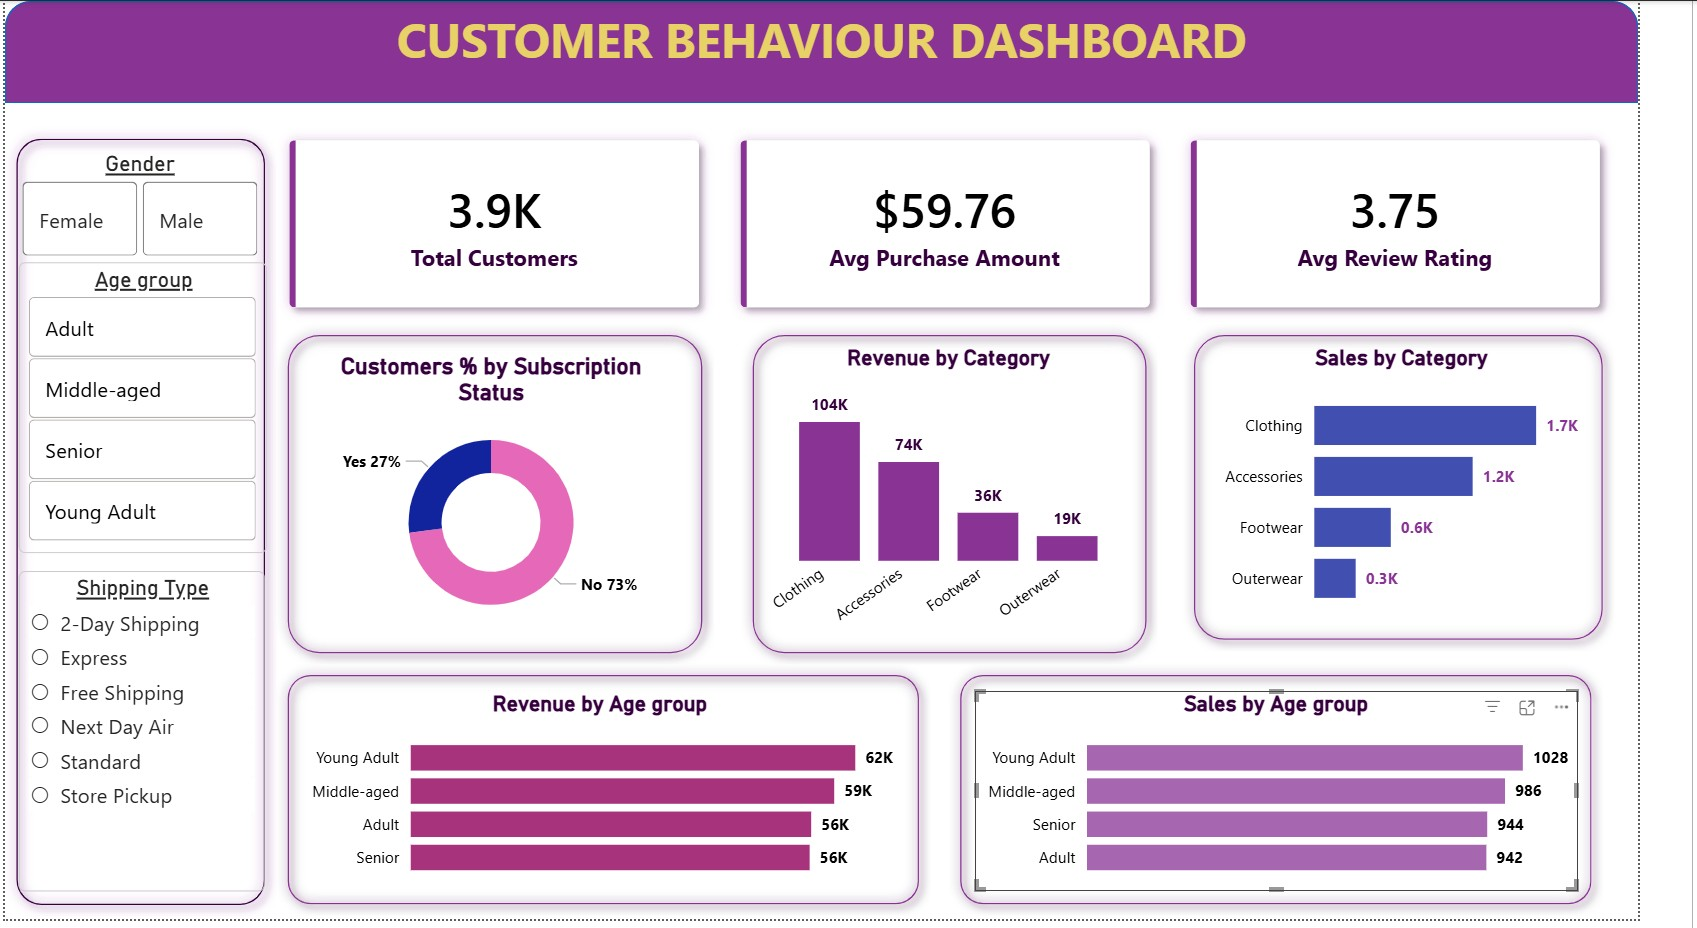

What the dashboard file says about the page in this screenshot:
{"tool":"powerbi","page":{"name":"Customer Behaviour Analysis","canvas":[1280,720],"ordinal":0},"visuals":[{"type":"cardVisual","fields":{"Data":["customer.total_customers","customer.avg_purchase_amount","customer.avg_review_rating"]},"box":[194.2,80.2,1086,189.5],"z":0},{"type":"shape","box":[0,0,1280.2,80.2],"z":1000},{"type":"textbox","box":[0,0,1280.2,80.2],"z":2000},{"type":"shape","box":[212.8,252.3,343,267.4],"z":3000},{"type":"donutChart","title":"Customers % by Subscription Status","fields":{"Category":["customer.subscription_status"],"Y":["customer.total_customers"]},"box":[244.2,275.6,274.4,225.6],"z":4000},{"type":"shape","box":[576.7,252.3,326.7,267.4],"z":5000},{"type":"shape","box":[923.3,252.3,338.4,257],"z":6000},{"type":"clusteredColumnChart","title":"Revenue by Category","fields":{"Category":["customer.category"],"Y":["Sum(customer.purchase_amount)"]},"box":[590.7,269.8,297.7,239.5],"z":7000},{"type":"clusteredBarChart","title":"Sales by Category","fields":{"Y":["CountNonNull(customer.customer_id)"],"Category":["customer.category"]},"box":[946.5,269.8,296.5,220.9],"z":8000},{"type":"shape","box":[0,98.8,212.8,618.6],"z":9000},{"type":"advancedSlicerVisual","fields":{"Values":["customer.gender"]},"box":[9.3,117.4,194.2,87.2],"z":10000},{"type":"advancedSlicerVisual","title":"Age group","fields":{"Values":["customer.age_group"]},"box":[10.5,204.7,194.2,227.9],"z":11000},{"type":"listSlicer","title":"Shipping Type","fields":{"Values":["customer.shipping_type"]},"box":[10.5,446.5,193,251.2],"z":12000},{"type":"shape","box":[212.8,519.8,512.8,197.7],"z":13000},{"type":"shape","box":[739.5,519.8,512.8,197.7],"z":14000},{"type":"clusteredBarChart","title":"Revenue by Age group","fields":{"Category":["customer.age_group"],"Y":["Sum(customer.purchase_amount)"]},"box":[230.2,540.7,472.1,157],"z":14001},{"type":"clusteredBarChart","title":"Sales by Age group","fields":{"Category":["customer.age_group"],"Y":["CountNonNull(customer.customer_id)"]},"box":[760.5,540.7,472.1,157],"z":14002}]}

Visuals, with their boxes in screenshot pixels (x1, y1, x2, y2), scaled from the page's 1280x720 canvas onto the 1697x928 screenshot:
cardVisual - customer.total_customers x customer.avg_purchase_amount: [257, 103, 1696, 348]
shape: [0, 0, 1696, 103]
textbox: [0, 0, 1696, 103]
shape: [282, 325, 737, 670]
"Customers % by Subscription Status" donutChart: [324, 355, 688, 646]
shape: [765, 325, 1198, 670]
shape: [1224, 325, 1673, 656]
"Revenue by Category" clusteredColumnChart: [783, 348, 1178, 656]
"Sales by Category" clusteredBarChart: [1255, 348, 1648, 632]
shape: [0, 127, 282, 925]
advancedSlicerVisual - customer.gender: [12, 151, 270, 264]
"Age group" advancedSlicerVisual: [14, 264, 271, 558]
"Shipping Type" listSlicer: [14, 575, 270, 899]
shape: [282, 670, 962, 925]
shape: [980, 670, 1660, 925]
"Revenue by Age group" clusteredBarChart: [305, 697, 931, 899]
"Sales by Age group" clusteredBarChart: [1008, 697, 1634, 899]
